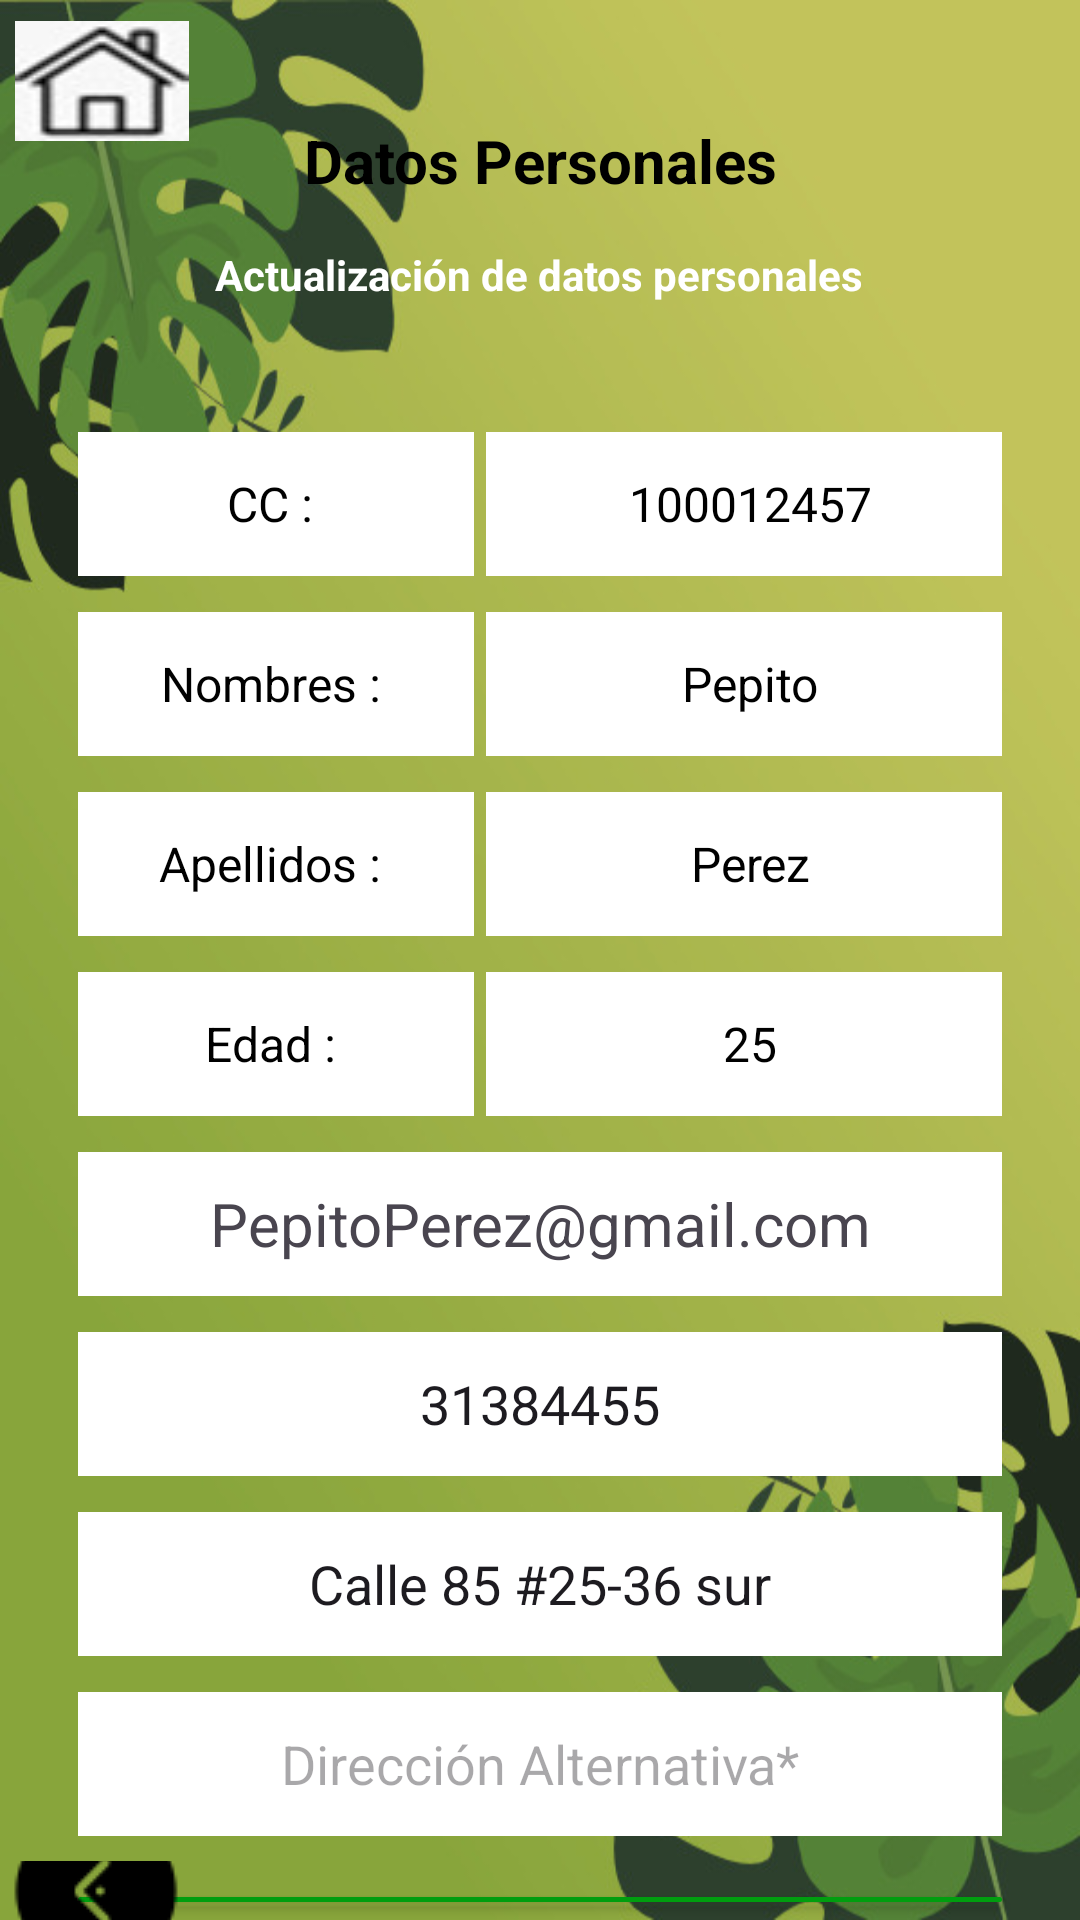

Screen size 1080 x 1920. Icon name, then its center in pixels as point (x, y):
Inicio: point (102, 81)
